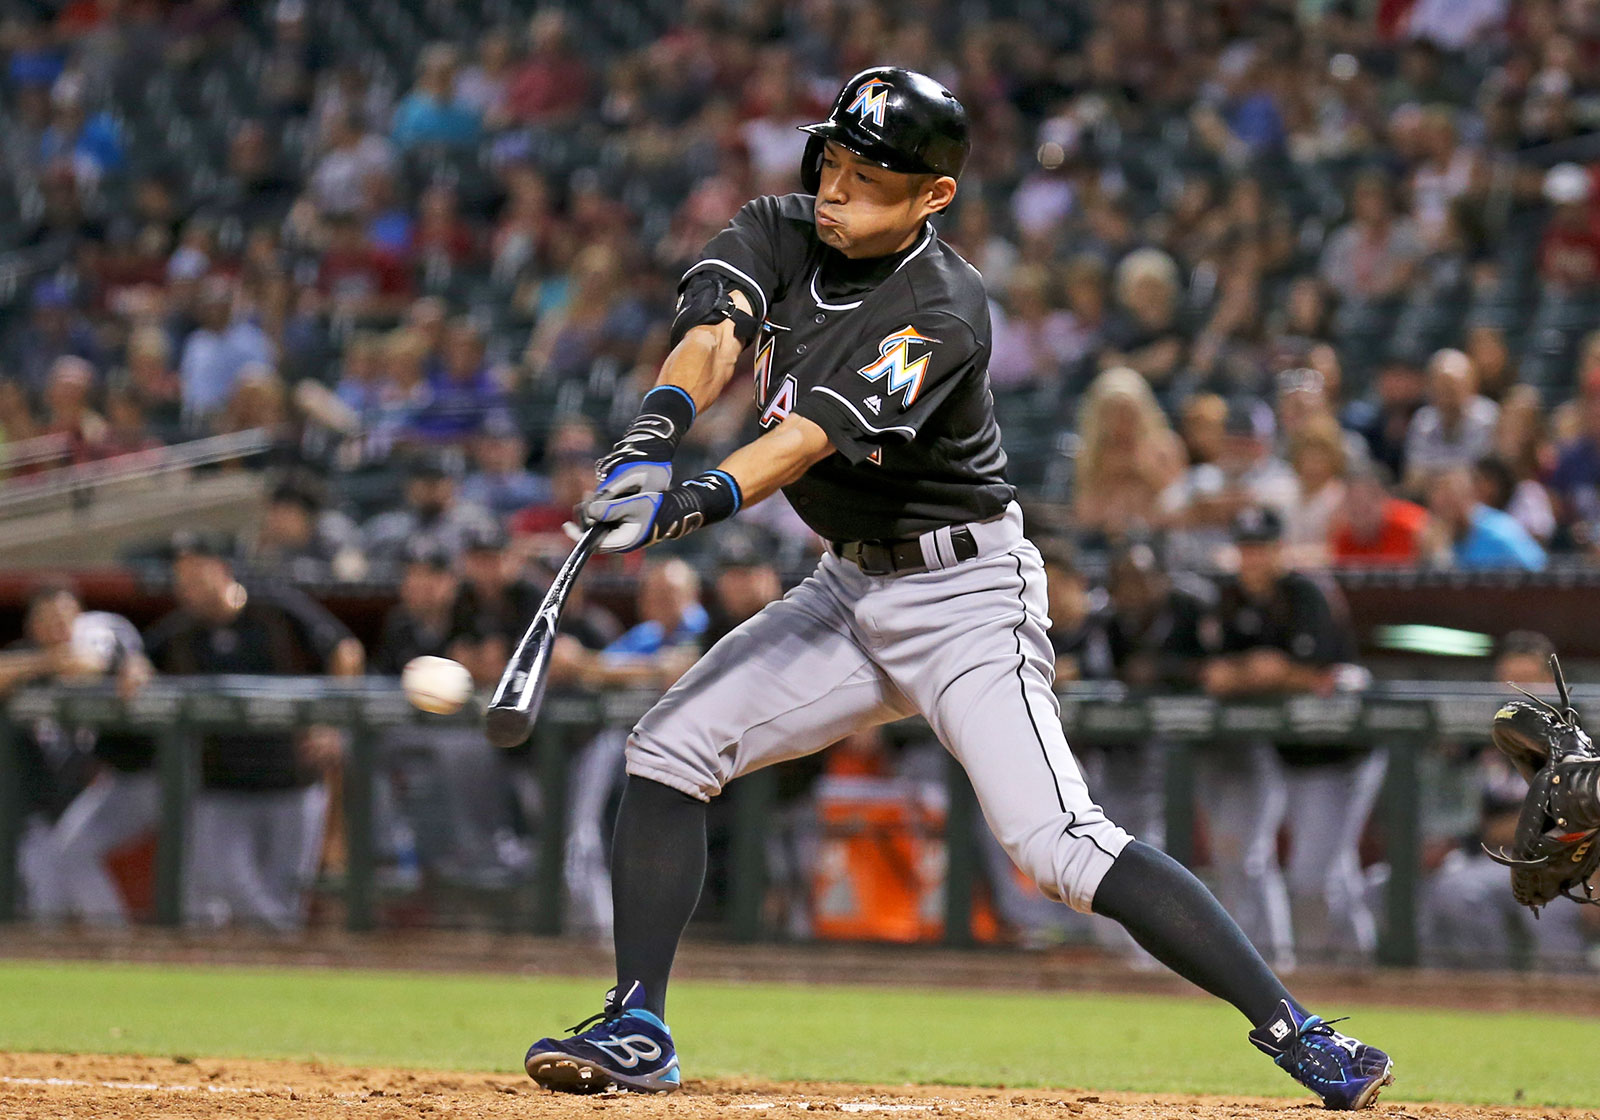LeftAnkle: (1253, 946, 1404, 1109)
LeftElbow: (765, 384, 841, 486)
LeftKnee: (974, 764, 1110, 910)
LeftShoulder: (892, 251, 1019, 382)
RightAnkle: (497, 984, 703, 1101)
RightKnee: (607, 676, 747, 809)
RightShoulder: (727, 151, 809, 285)
